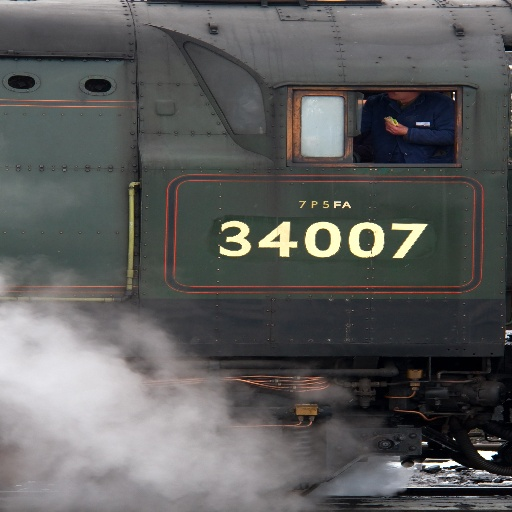hand: (382, 119, 407, 137)
